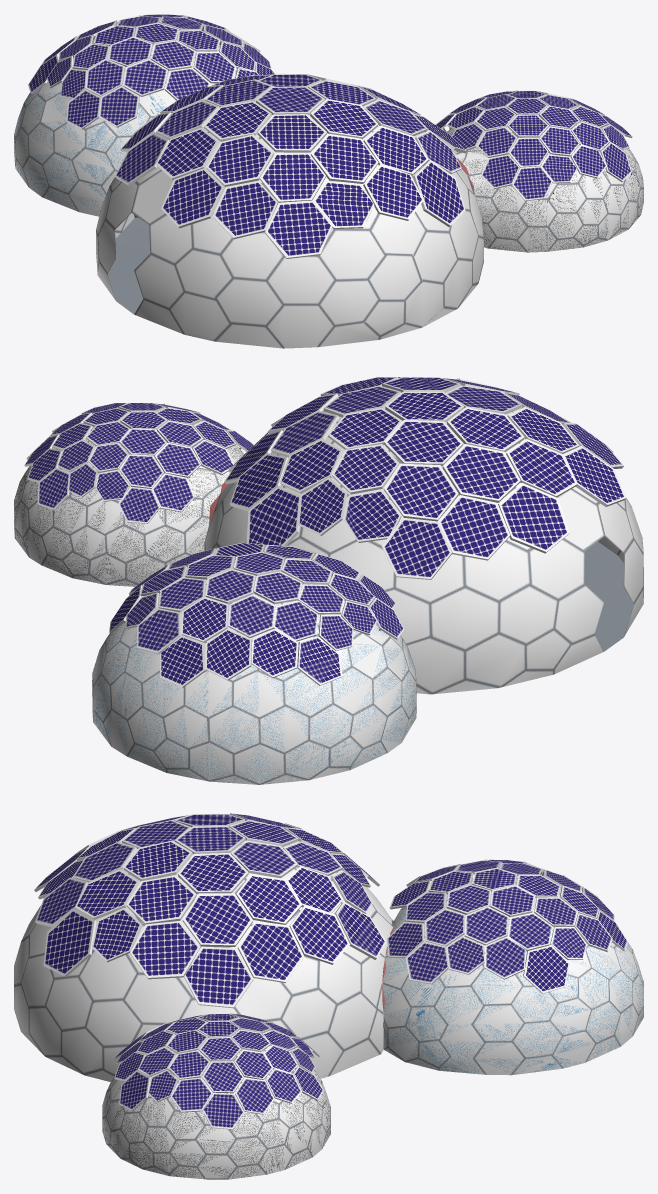
Rendered from DOME_INOUT.fbx.
The picture shows the model from 3 angles, top to bottom: view 1: azimuth 30°, elevation 25°; view 2: azimuth 150°, elevation 25°; view 3: azimuth 270°, elevation 25°; orthographic projection. The views are drawn at different scales.
Parts seen in each view (by area): view 1: SOLARPANELS, DOME_OUTSIDE, DOME, FLOOR; view 2: SOLARPANELS, DOME_OUTSIDE, DOME, FLOOR; view 3: SOLARPANELS, DOME_OUTSIDE, DOME.
Boxes of the visible parts, left/top/right/bottom form: SOLARPANELS: left=28, top=14, right=632, bottom=258; DOME_OUTSIDE: left=14, top=29, right=643, bottom=348; DOME: left=14, top=41, right=643, bottom=347; FLOOR: left=107, top=217, right=150, bottom=314; SOLARPANELS: left=24, top=377, right=626, bottom=687; DOME_OUTSIDE: left=14, top=408, right=643, bottom=784; DOME: left=14, top=411, right=643, bottom=783; FLOOR: left=585, top=542, right=633, bottom=651; SOLARPANELS: left=34, top=813, right=627, bottom=1129; DOME_OUTSIDE: left=14, top=840, right=643, bottom=1179; DOME: left=15, top=844, right=643, bottom=1179.
Bounding box in the file's own units: 5.82 × 1.88 × 6.14.
